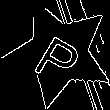P_NE: (30, 22, 88, 84)
